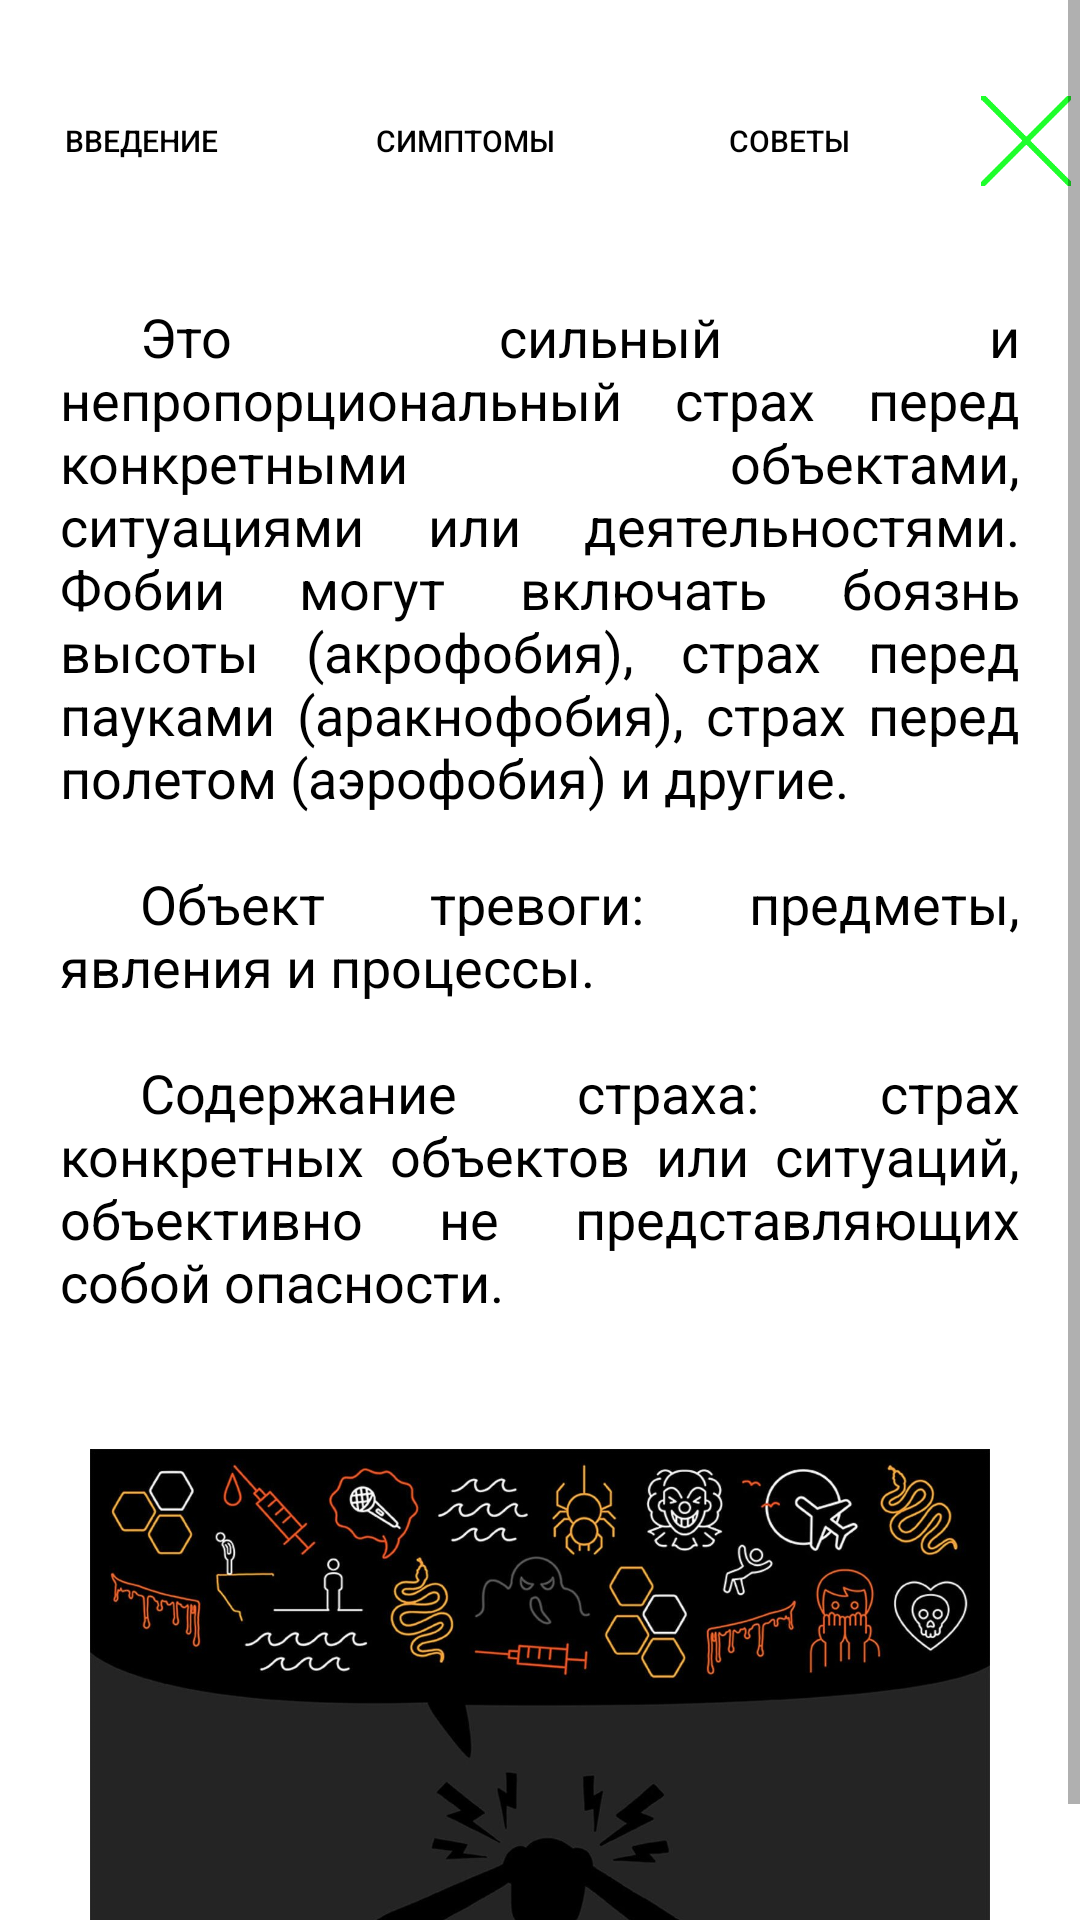

Icons on this 1080w x 1920h Android screen, each with its box as (x1, y1, x2, y2):
close: (981, 96, 1071, 186)
